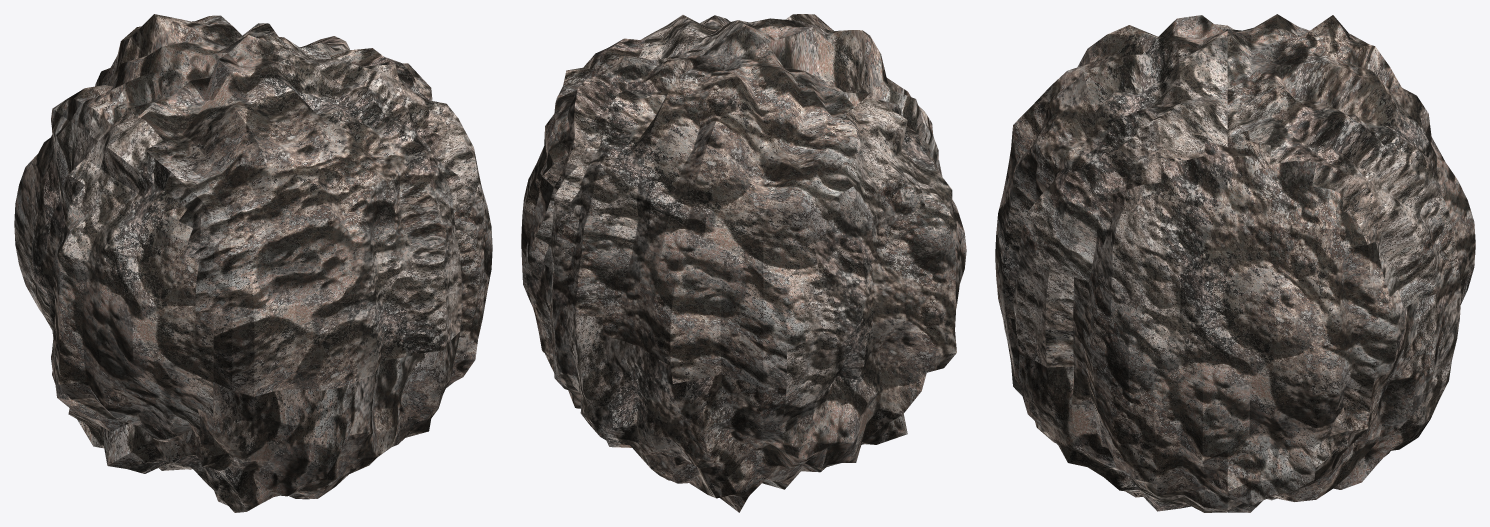
The model's file is asteroid2.obj.
3 views of the same model, side by side, from view 1: azimuth 30°, elevation 25°; view 2: azimuth 150°, elevation 25°; view 3: azimuth 270°, elevation 25° (orthographic). The views are drawn at different scales.
Visible parts, largest first — view 1: Cube_Cube.002; view 2: Cube_Cube.002; view 3: Cube_Cube.002.
Part boxes in pixels (box(x1,y1,x2,y2)): Cube_Cube.002: box(14, 14, 492, 512); Cube_Cube.002: box(521, 14, 966, 512); Cube_Cube.002: box(995, 14, 1475, 512).
Size of the model in its own units: 1.78 by 1.9 by 1.76.
